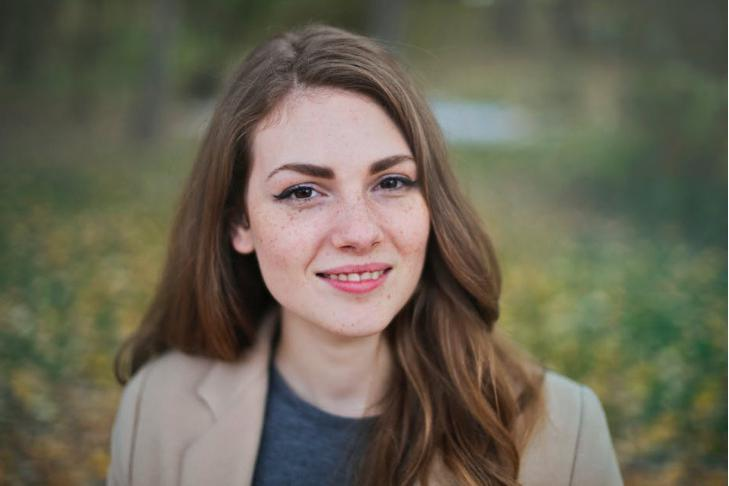face: (251, 89, 431, 335)
